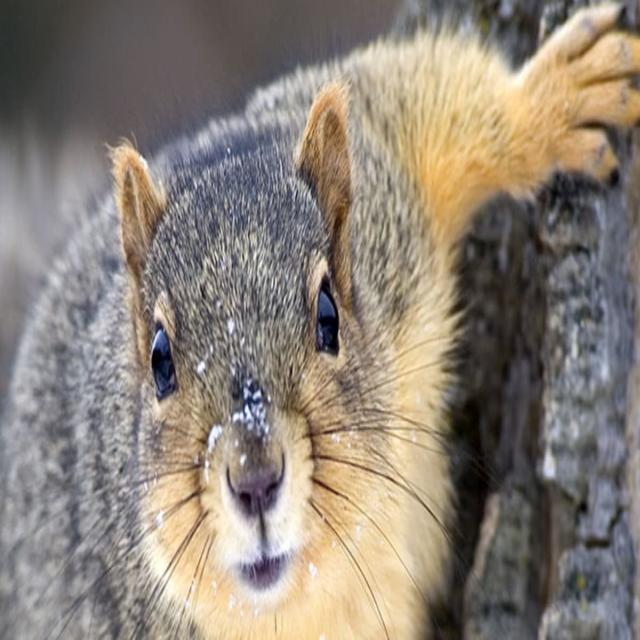squirrel: (1, 3, 640, 639)
